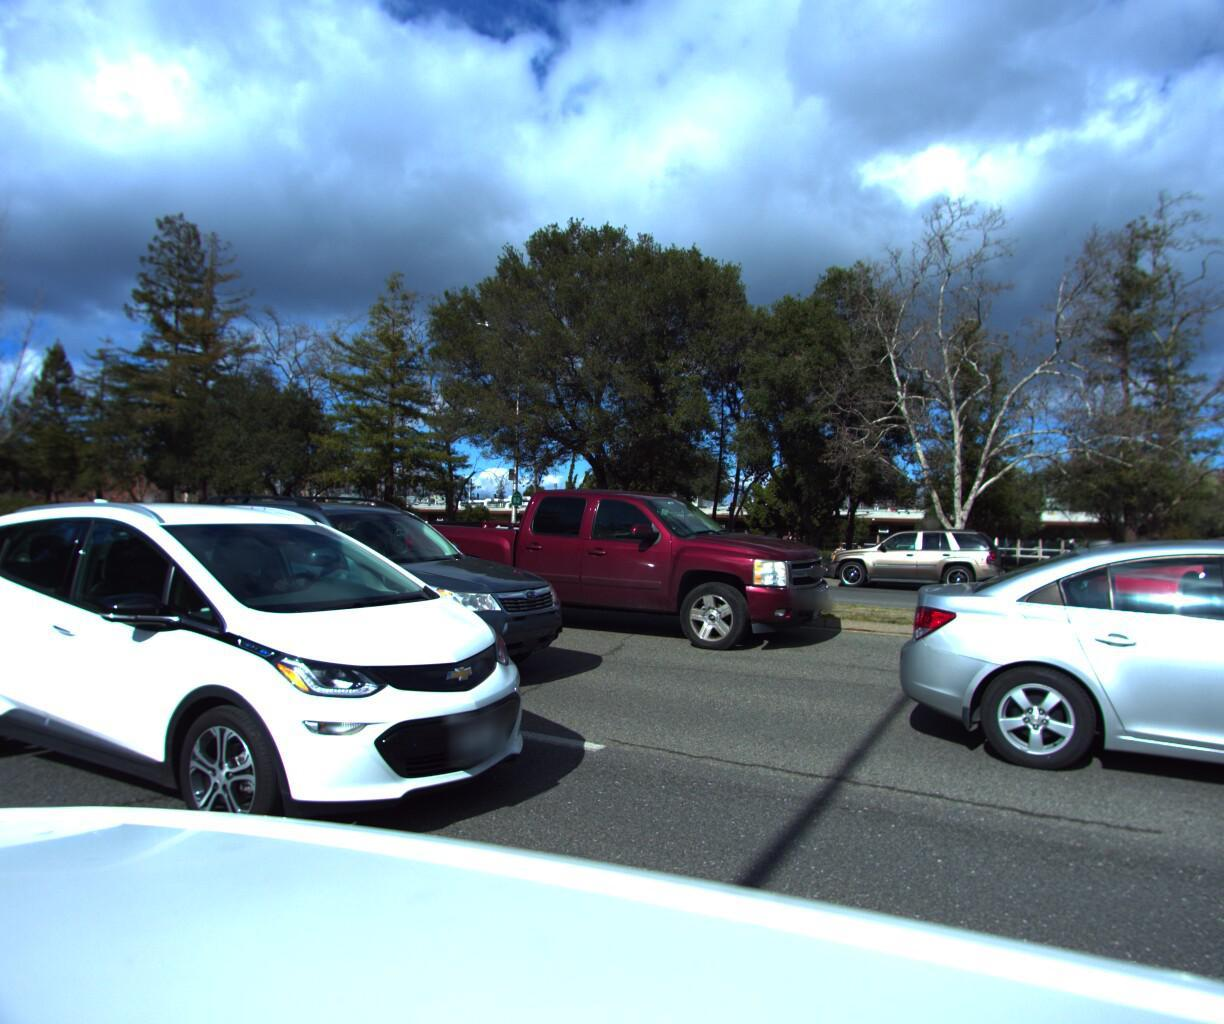car: (0, 462, 591, 901), (881, 535, 1224, 916), (146, 483, 601, 708), (395, 481, 852, 665), (1065, 530, 1224, 759), (0, 513, 242, 602), (1009, 542, 1224, 621), (817, 528, 1009, 604), (1168, 539, 1224, 643)
